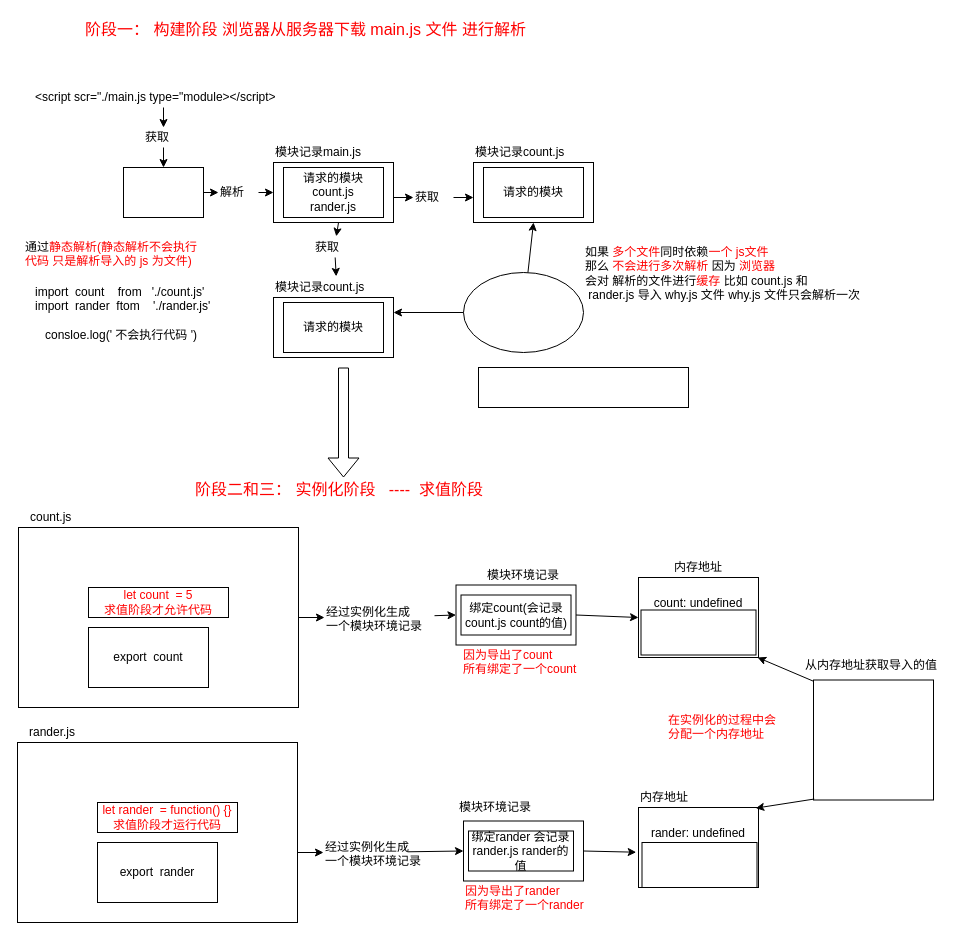
The diagram is 971 pixels wide and 940 high, and some of its shapes have lost their labels. Each missing label, with the box of its shape:
.js: (122, 166, 204, 218)
ES MODULE: (478, 366, 688, 408)
main.js 无法修改导入的值: (812, 679, 934, 800)
why.js: (462, 272, 584, 352)
刚开始是undefined count.js count值 赋值后改变: (640, 609, 756, 655)
刚开始是undefined rander.js reander值 赋值后改变: (641, 842, 757, 888)
